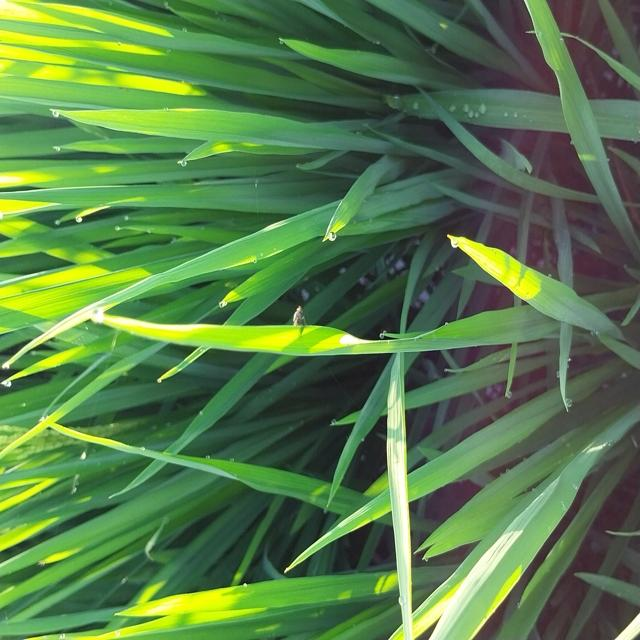healthy: (279, 287, 319, 340)
